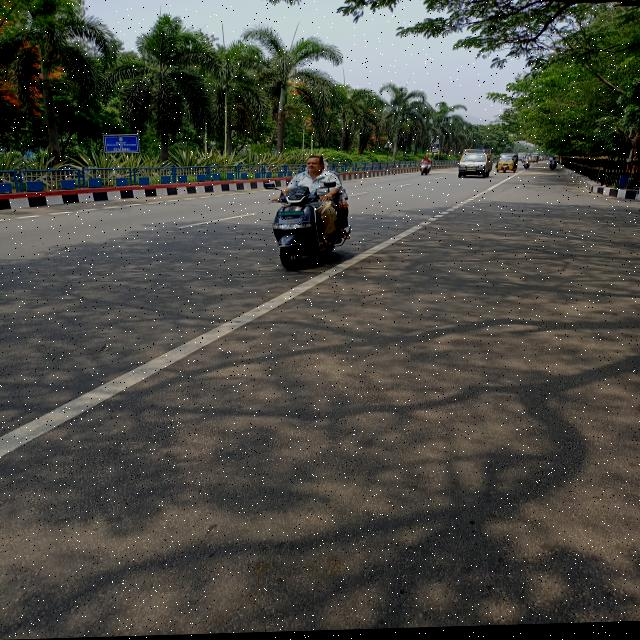bike: (258, 183, 360, 270), (418, 166, 432, 177), (549, 164, 557, 174), (524, 163, 530, 174)
car: (458, 152, 494, 184)
